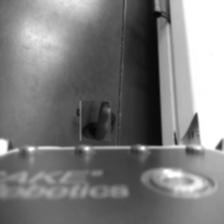Door Handle: (78, 104, 114, 139)
